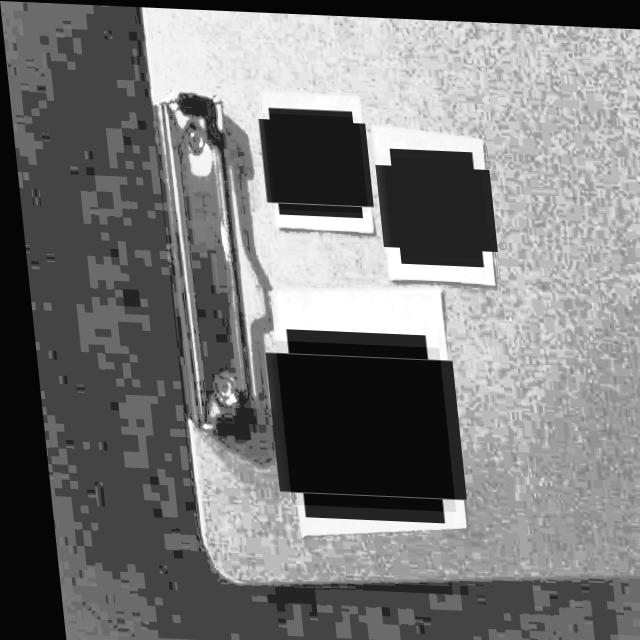qr_code: (268, 337, 445, 507), (379, 152, 485, 254), (261, 110, 365, 209)
